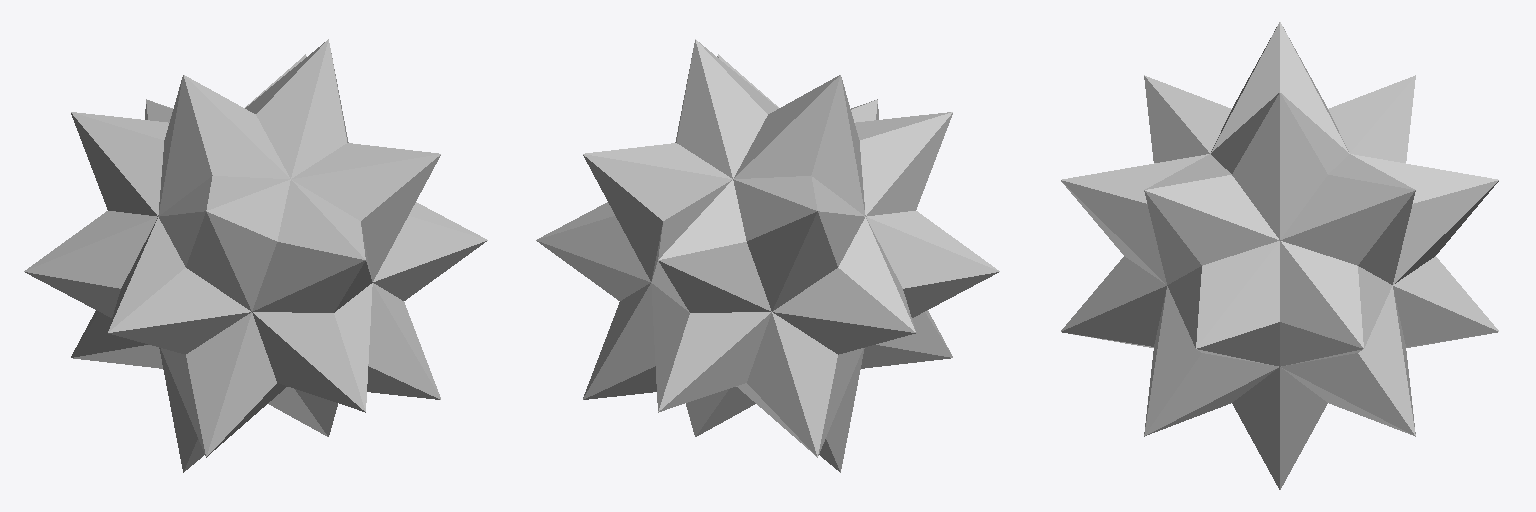
File: GreatDodecicosacron.obj
3 renders of one model, left to right at view 1: azimuth 30°, elevation 25°; view 2: azimuth 150°, elevation 25°; view 3: azimuth 270°, elevation 25°, orthographic.
Bounding box in the file's own units: 3.62 × 3.62 × 3.62.